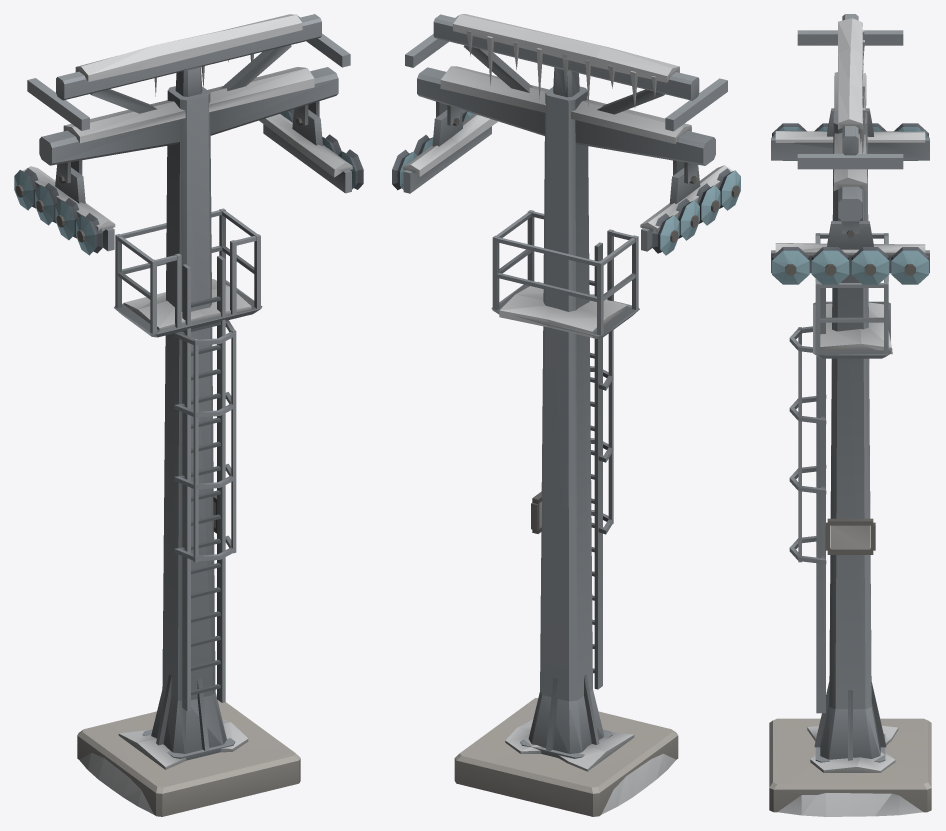
The model's file is pylon.glb.
3 views of the same model, side by side, from view 1: azimuth 30°, elevation 25°; view 2: azimuth 150°, elevation 25°; view 3: azimuth 270°, elevation 25° (orthographic). The views are drawn at different scales.
Parts seen in each view (by area): view 1: pylon.001; view 2: pylon.001; view 3: pylon.001.
Part boxes in pixels (x1,y1,x2,y2): pylon.001: (14,14,363,816); pylon.001: (392,14,740,816); pylon.001: (769,14,931,816).
Bounding box in the file's own units: 3.96 × 9.68 × 2.
